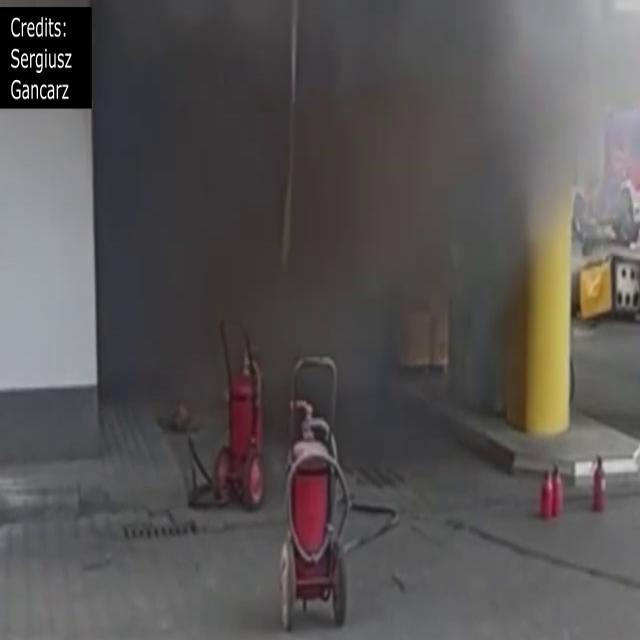Smoke: (93, 1, 622, 431)
